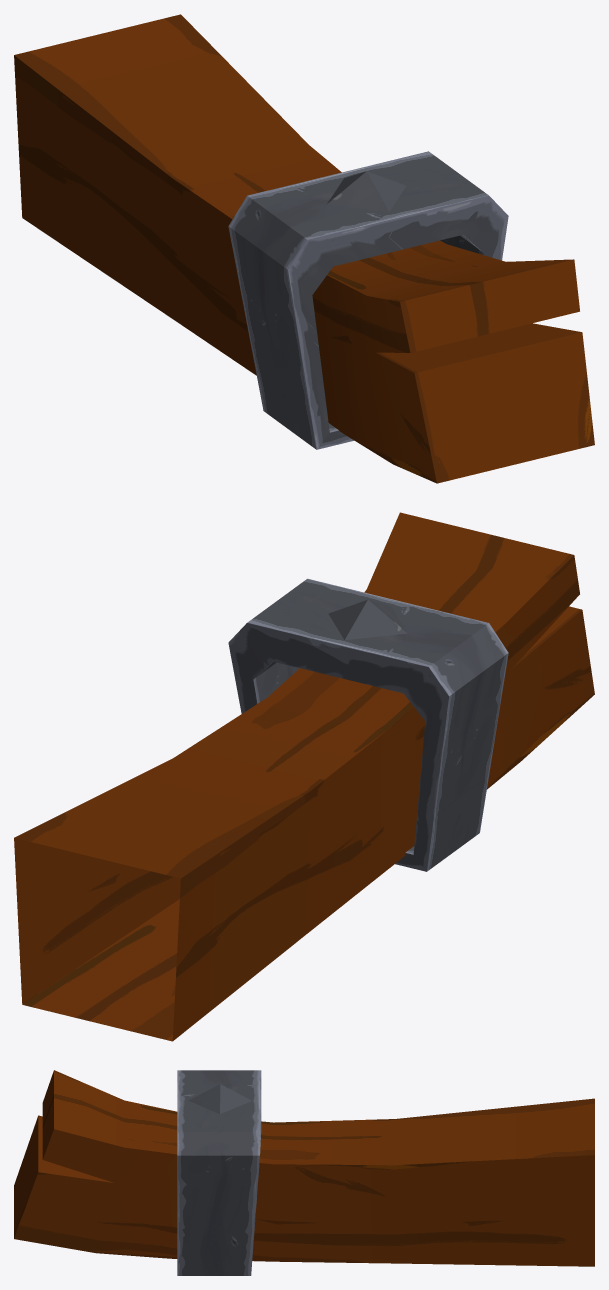
The model's file is SM_BLD_beam_small_v04_01.fbx.
The picture shows the model from 3 angles, top to bottom: view 1: azimuth 30°, elevation 25°; view 2: azimuth 150°, elevation 25°; view 3: azimuth 270°, elevation 25°; orthographic projection. The views are drawn at different scales.
Visible parts, largest first — view 1: SM_BLD_beam_small_v04_01; view 2: SM_BLD_beam_small_v04_01; view 3: SM_BLD_beam_small_v04_01.
Boxes of the visible parts, left/top/right/bottom form: SM_BLD_beam_small_v04_01: left=14, top=14, right=594, bottom=483; SM_BLD_beam_small_v04_01: left=14, top=512, right=594, bottom=1041; SM_BLD_beam_small_v04_01: left=14, top=1070, right=594, bottom=1275.
Size of the model in its own units: 91.63 by 93.71 by 301.
